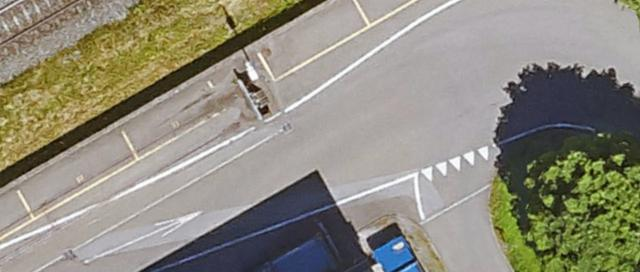tree: (523, 134, 640, 272)
